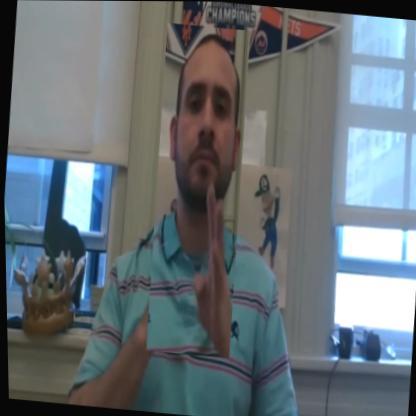Talk: (139, 22, 256, 358)
